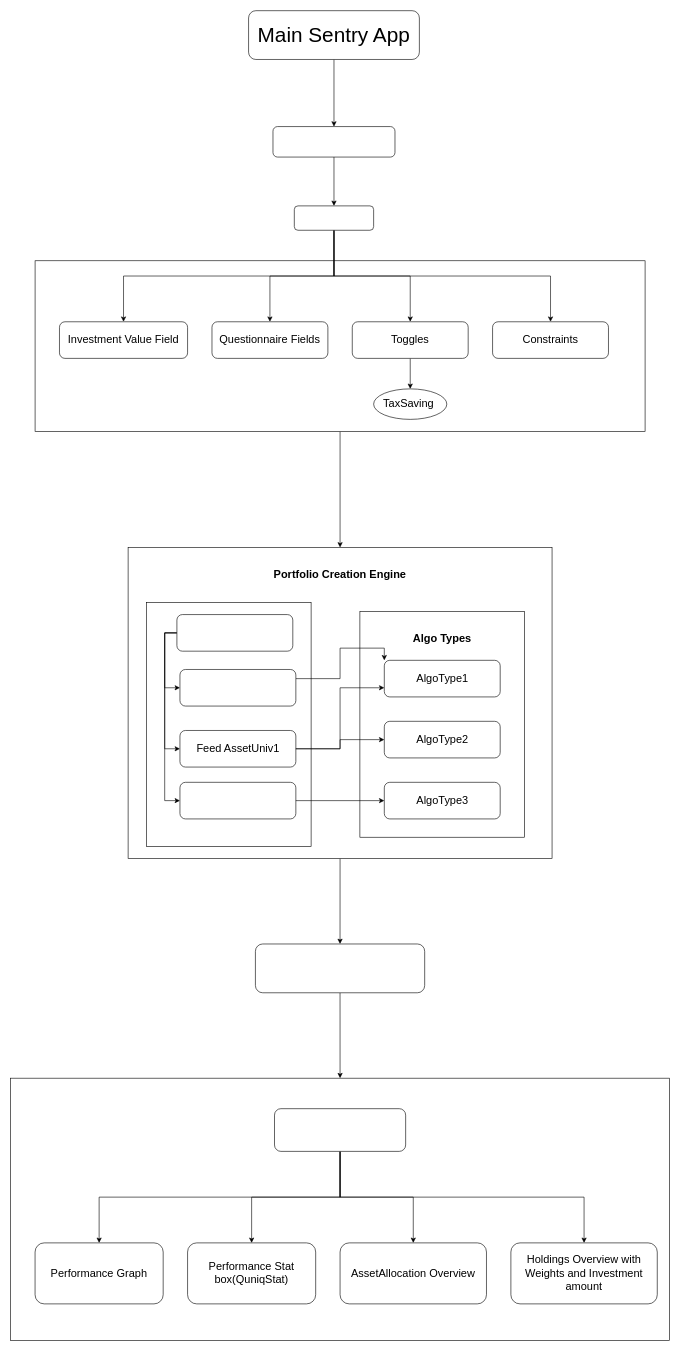
The diagram is 680 pixels wide and 1351 high, and some of its shapes have lost their labels. The box of each missing label's shape, as (x1, y1, x2, y2) in pixels:
Feed AssetUniv (IfTaxSavingToggleON): (179, 669, 296, 706)
Feed AssetUniv2 (HighRisk): (179, 782, 296, 819)
Generated Basket: (274, 1108, 406, 1151)
Generated PortfolioSection: (255, 943, 425, 993)
Main AssetUniverse: (176, 614, 293, 651)
Portfolio Creation Tab: (272, 126, 395, 157)
RiskProfiling: (294, 205, 374, 230)
